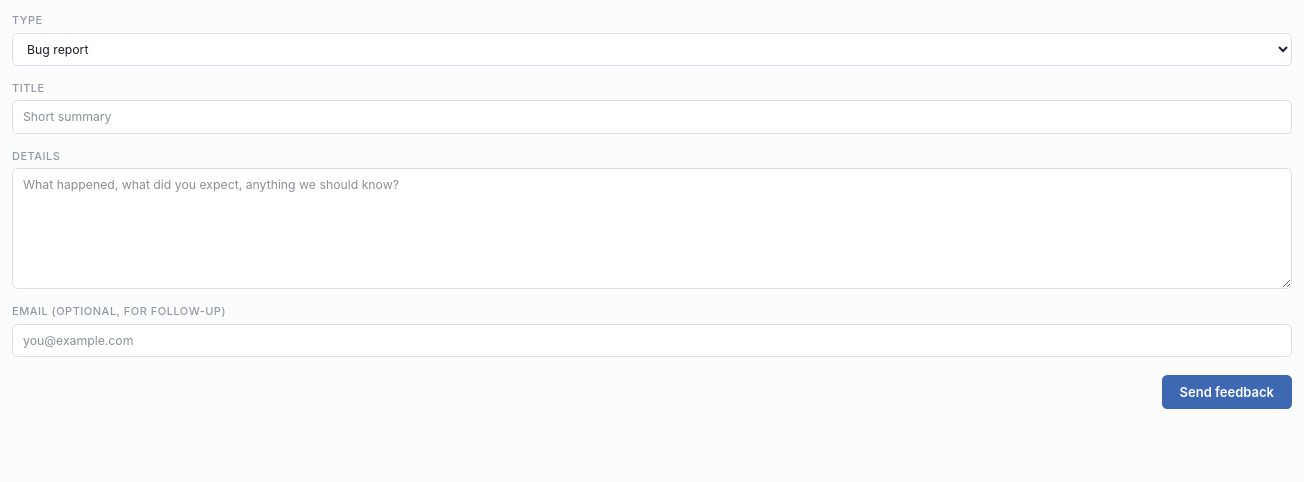
Test: FeedbackForm › shows error state on 4xx/5xx and keeps form contents
In the field labelled "Title": (652, 117) [12, 100, 1292, 134], type "Title here"
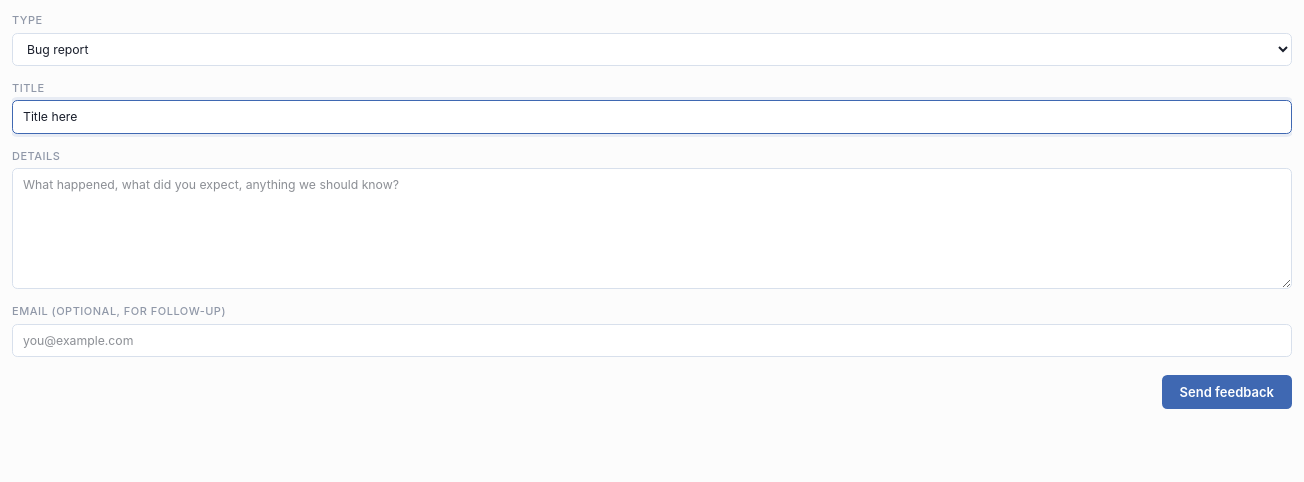
In the text box labelled "Details": (652, 229) [12, 168, 1292, 289], type "Long enough body text."
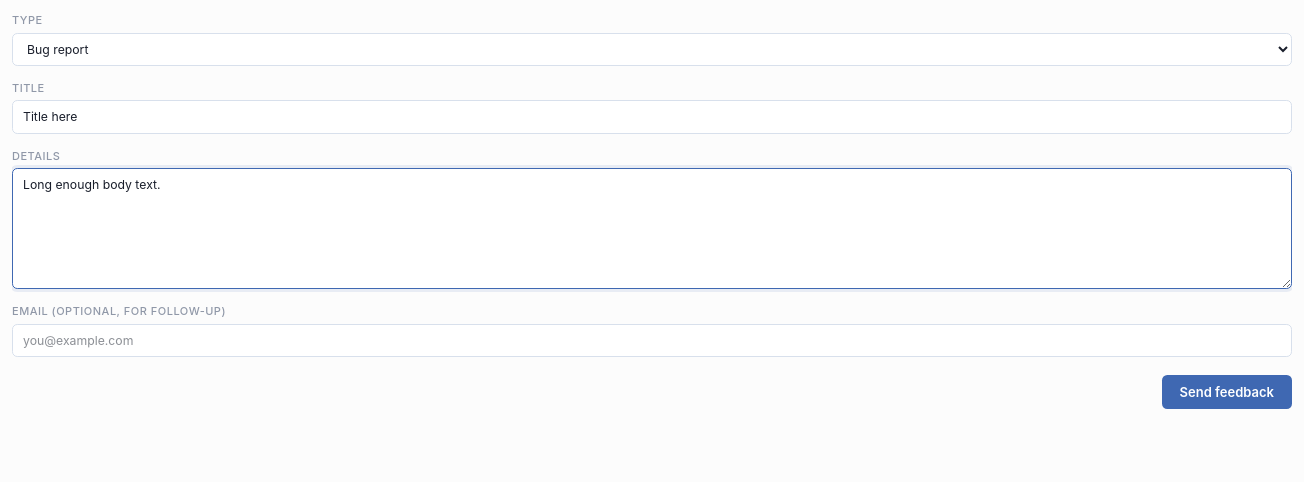
Click the button "Send feedback": (1227, 392) [1162, 375, 1292, 409]
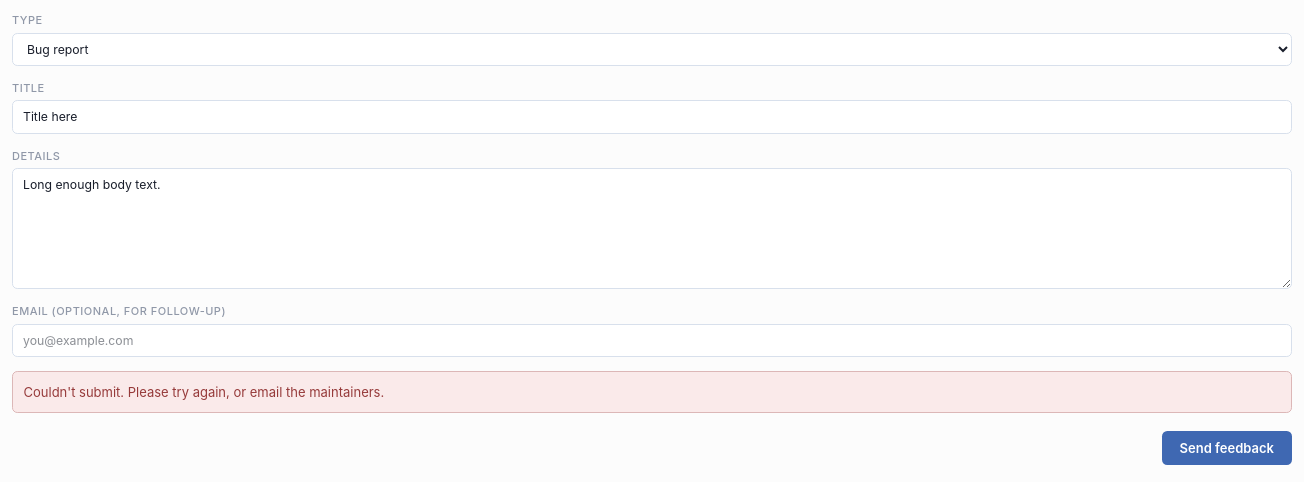
Result: the text "Couldn't submit. Please try again, or email the maintainers." is shown at [12, 371, 1292, 413]
